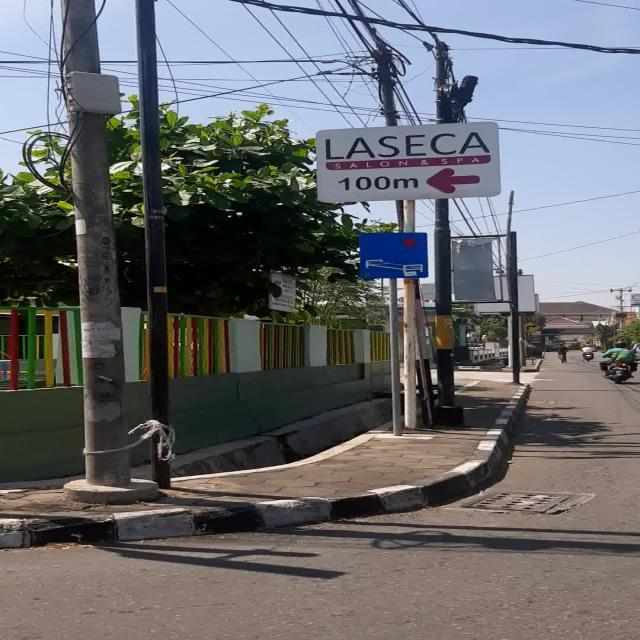Rumah Sakit: (358, 232, 428, 278)
